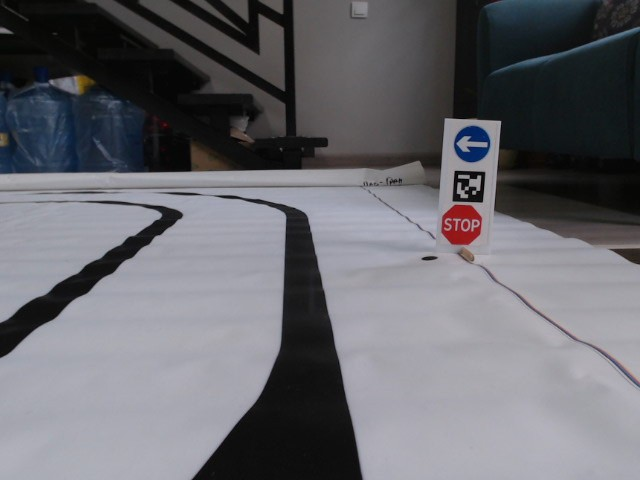Stop: (441, 203, 481, 246)
